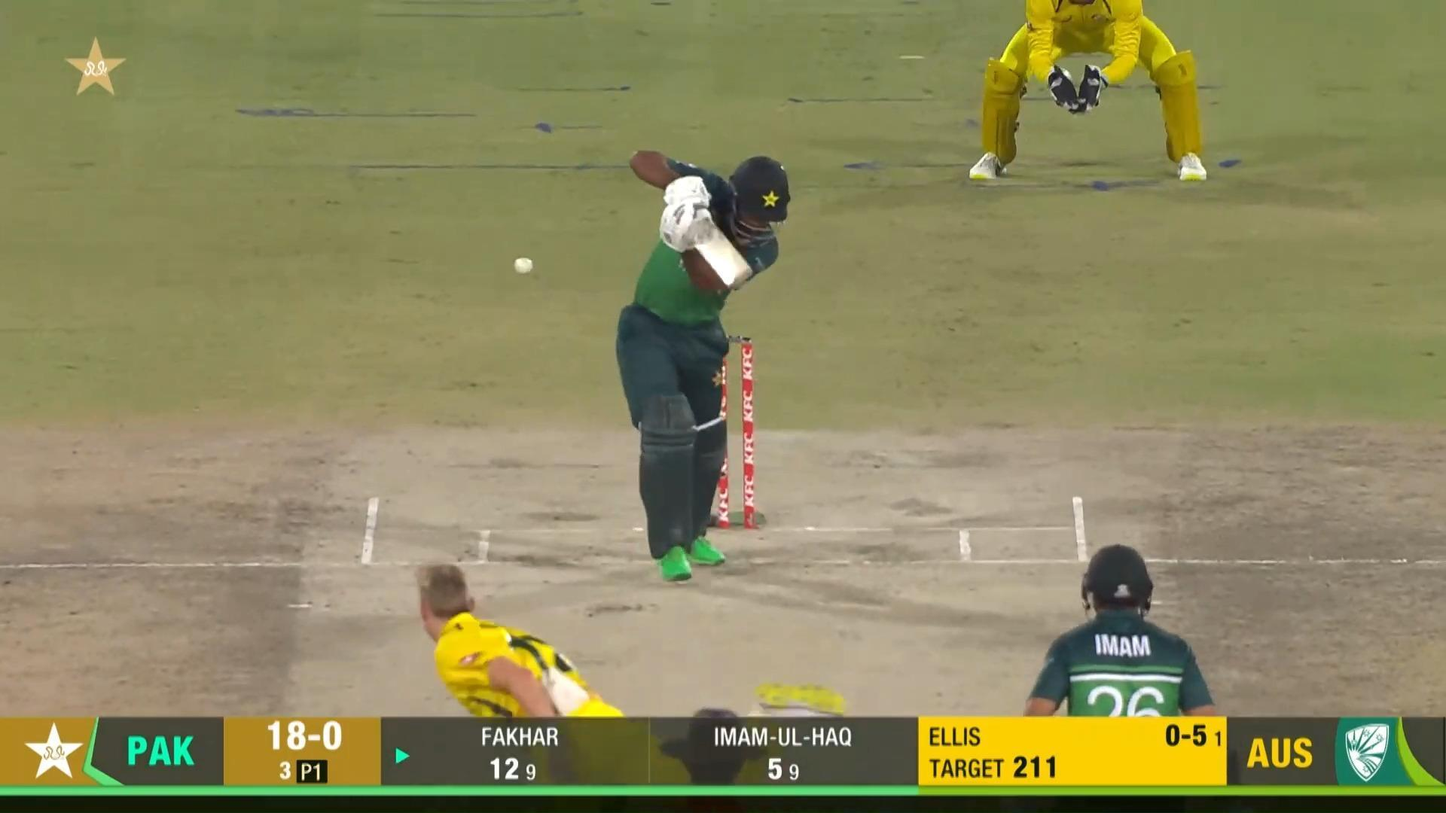BM 1: (617, 146, 794, 584)
BO: (413, 561, 628, 714)
